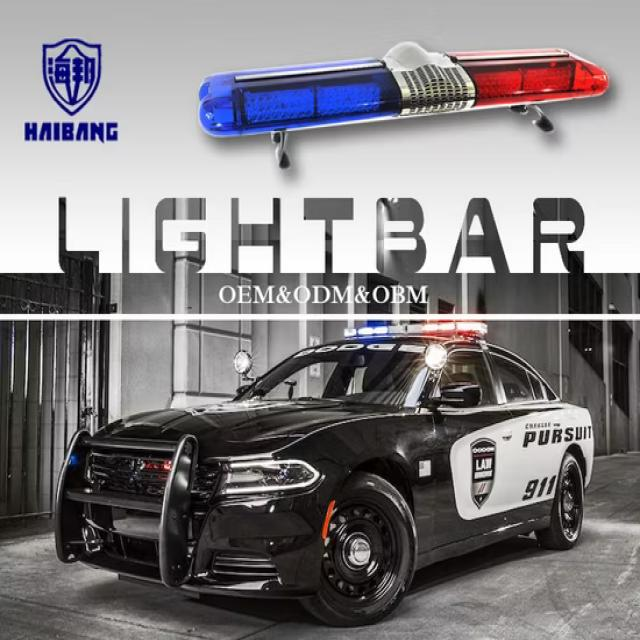emergency lights: (196, 39, 622, 154), (342, 323, 489, 341)
